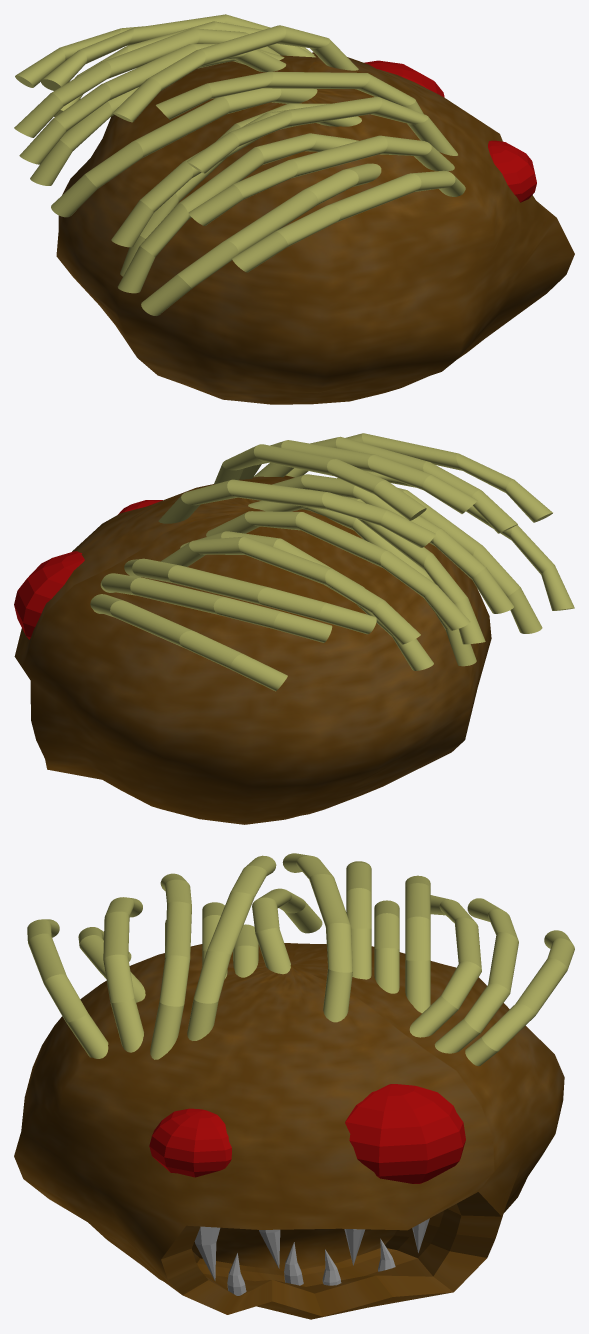
File: Spagetball_Walk.fbx
3 views of the same model, one above another, from view 1: azimuth 30°, elevation 25°; view 2: azimuth 150°, elevation 25°; view 3: azimuth 270°, elevation 25° (orthographic). The views are drawn at different scales.
Visible parts, largest first — view 1: Hairy_Meatball; view 2: Hairy_Meatball; view 3: Hairy_Meatball.
Boxes of the visible parts, x1,y1,x2,y2 form: Hairy_Meatball: [14, 14, 574, 404]; Hairy_Meatball: [14, 433, 574, 824]; Hairy_Meatball: [14, 853, 574, 1319].
Bounding box in the file's own units: 151 × 105 × 151.
4 materials, 1 textured.
